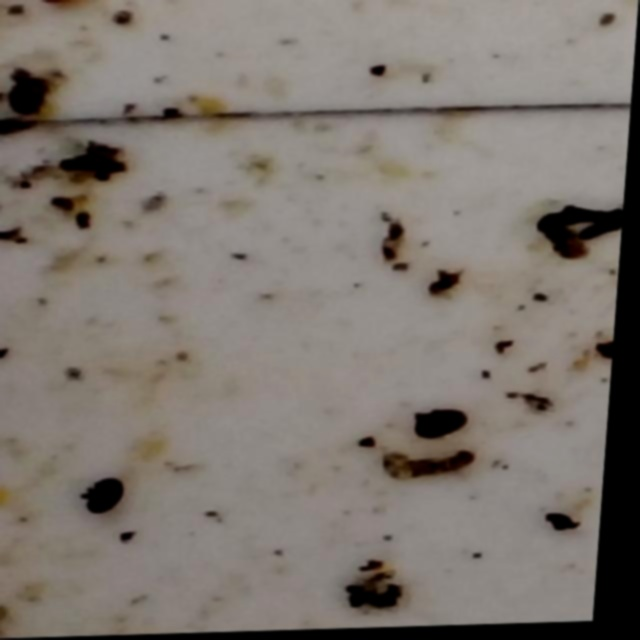varroa: (419, 408, 479, 443), (7, 75, 52, 120), (94, 477, 133, 518)
